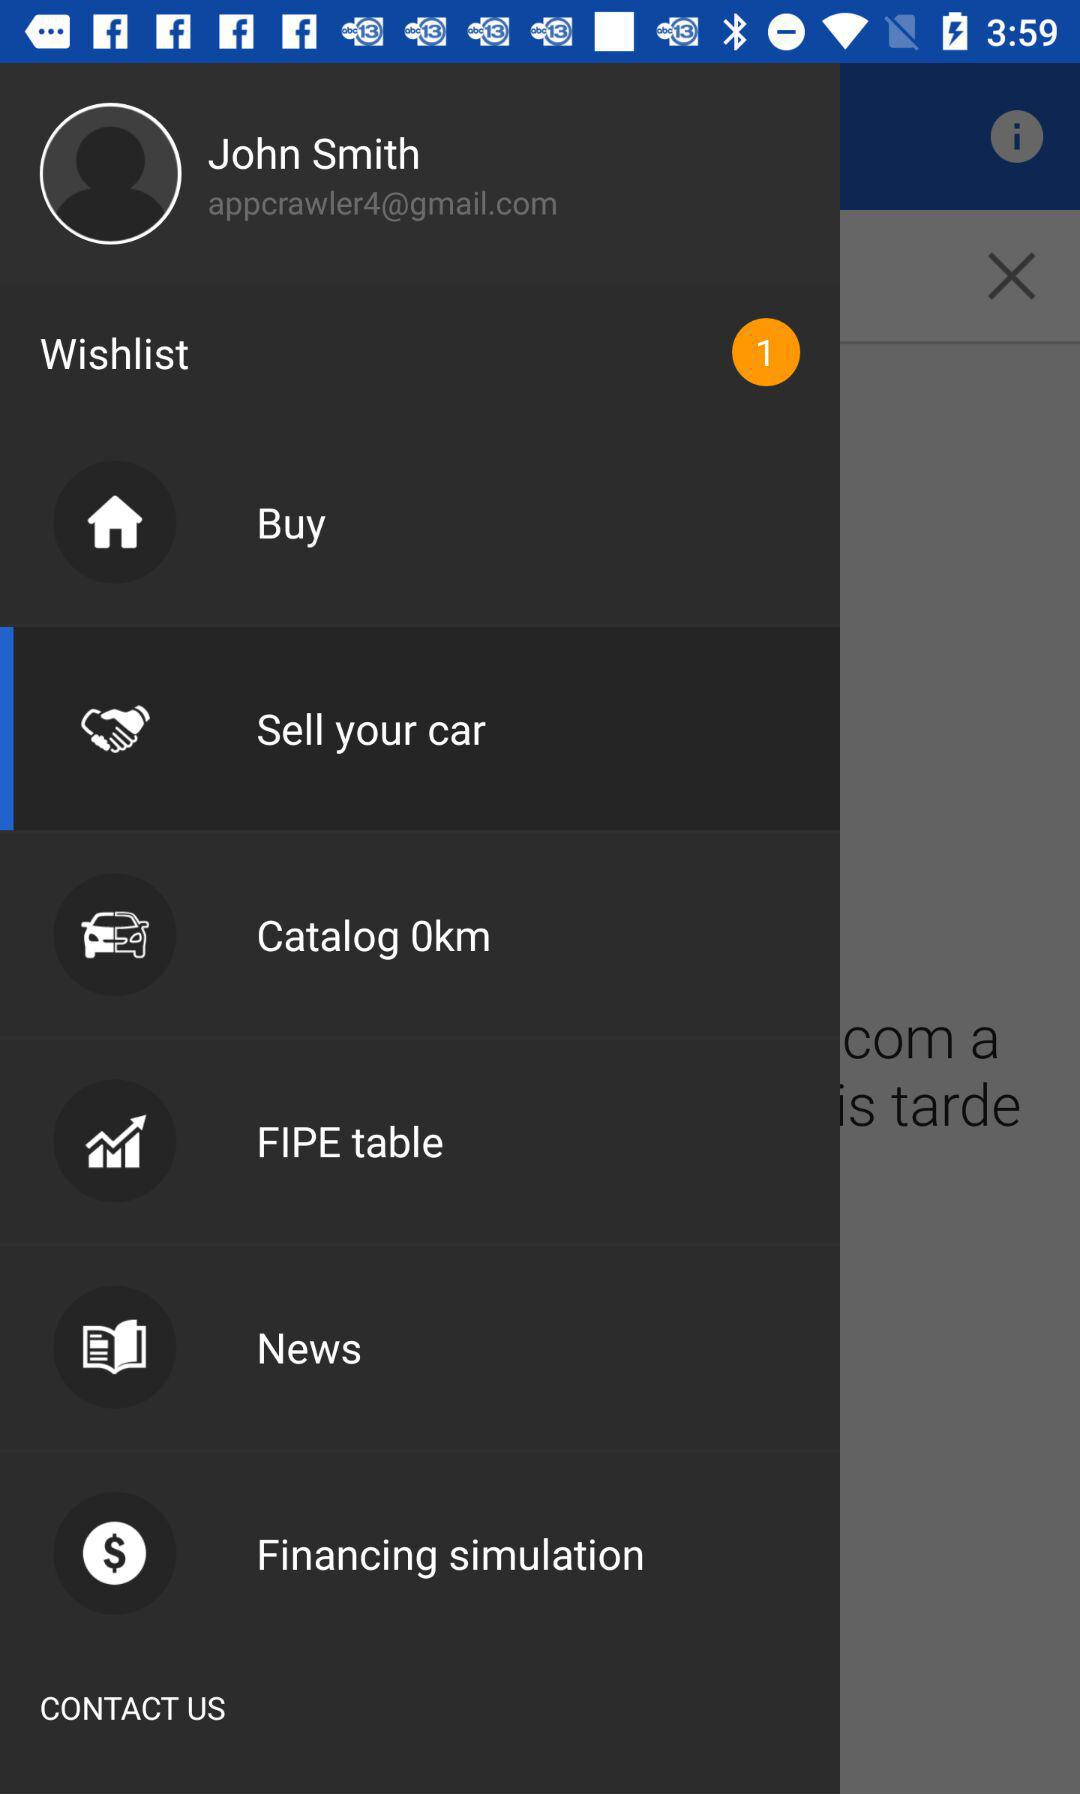Drawer: (1, 64, 840, 1793)
Icon: (38, 103, 184, 247), (53, 1490, 178, 1617), (53, 460, 179, 586), (53, 1078, 178, 1203), (53, 1285, 179, 1410), (989, 109, 1044, 167), (986, 252, 1036, 302)
Image: (53, 871, 179, 997), (732, 317, 802, 388), (79, 702, 152, 755)
Text: (258, 1536, 644, 1581), (208, 186, 559, 223), (258, 916, 492, 964), (256, 711, 488, 759), (208, 135, 420, 172), (258, 1124, 445, 1160), (40, 334, 191, 372), (38, 1694, 225, 1724), (258, 1330, 363, 1367), (258, 506, 329, 551)
UpperTaskBar: (1, 1, 1080, 64)
